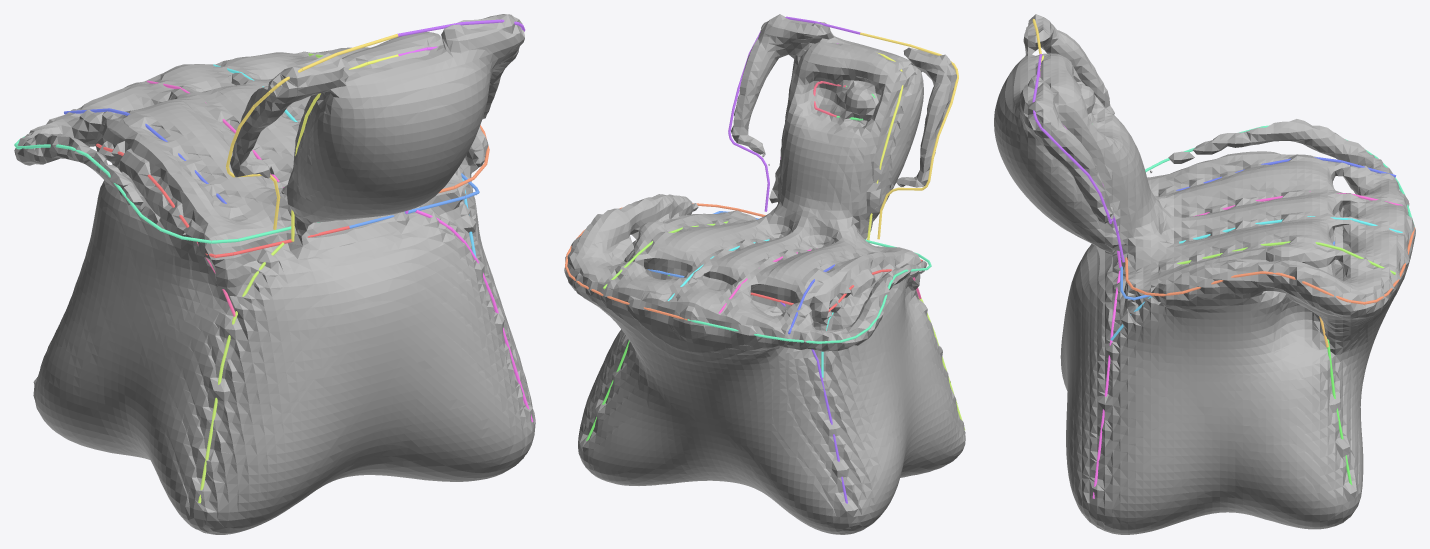
File: author1_chair.gltf
The picture shows the model from 3 angles, left to right: view 1: azimuth 30°, elevation 25°; view 2: azimuth 150°, elevation 25°; view 3: azimuth 270°, elevation 25°; orthographic projection. The views are drawn at different scales.
Bounding box in the file's own units: 0.5656 × 0.6913 × 0.6217.
